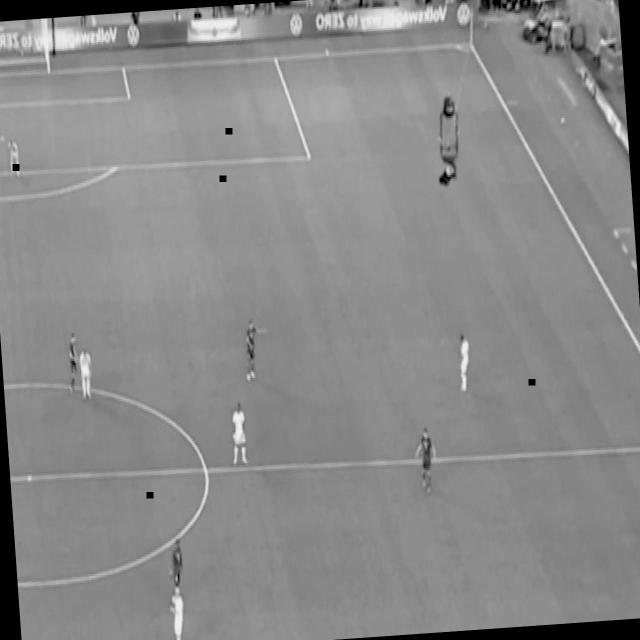player-white: (410, 423, 442, 501), (240, 315, 273, 386), (227, 396, 253, 474), (166, 531, 188, 603), (63, 328, 83, 399), (454, 324, 474, 394), (167, 581, 189, 640), (76, 342, 96, 402), (4, 132, 24, 183)
